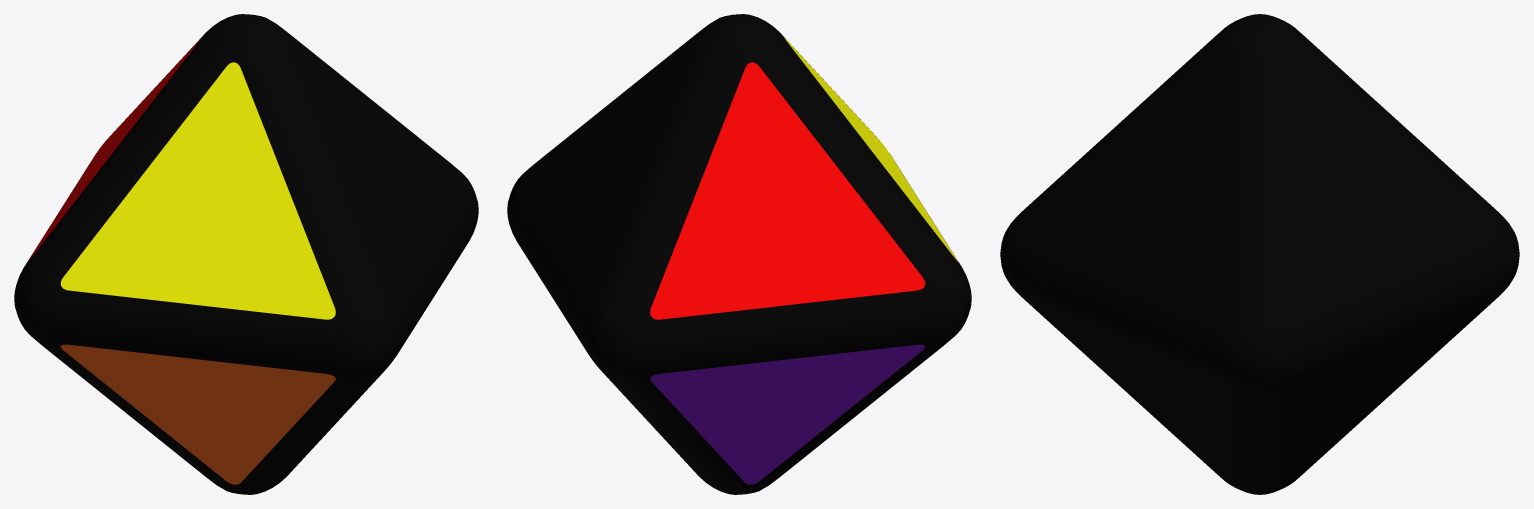
Rendered from right.fbx.
3 renders of one model, left to right at view 1: azimuth 30°, elevation 25°; view 2: azimuth 150°, elevation 25°; view 3: azimuth 270°, elevation 25°, orthographic.
Visible parts, largest first — view 1: right; view 2: right; view 3: right.
Boxes of the visible parts, x1,y1,x2,y2 form: right: (14, 14, 478, 494); right: (507, 14, 971, 494); right: (1000, 14, 1519, 494).
Bounding box in the file's own units: 174 × 174 × 174.
